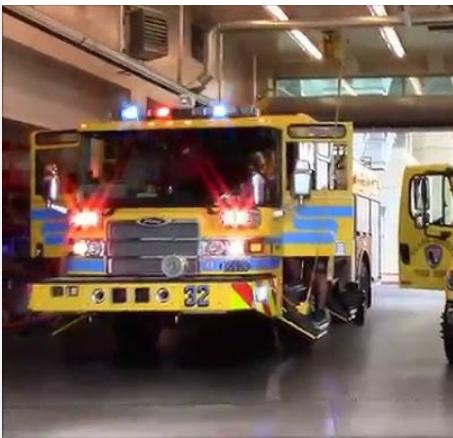firetruck_on: (26, 103, 372, 354)
